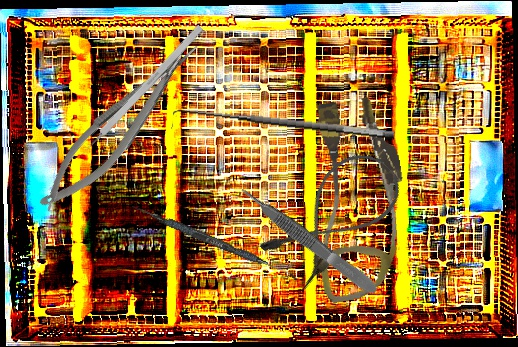Cannula: (292, 92, 422, 305), (255, 139, 412, 294)
Hook Surgical: (77, 24, 204, 160), (171, 101, 395, 158)
Needle Holder: (24, 30, 216, 223)
Spatula Surgical: (129, 203, 301, 281)
Tissue Forceps: (237, 181, 381, 299)
